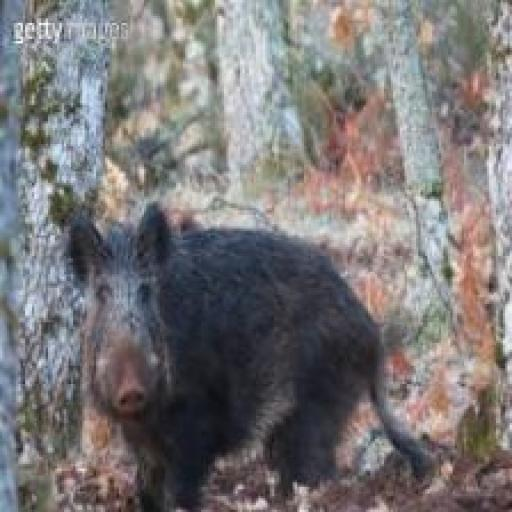Pig: (44, 183, 434, 512)
